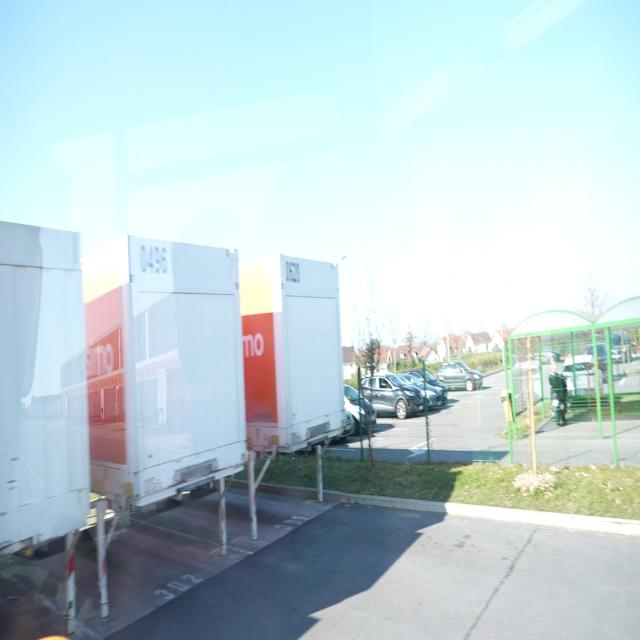Code: (134, 234, 176, 280), (281, 259, 305, 290)
